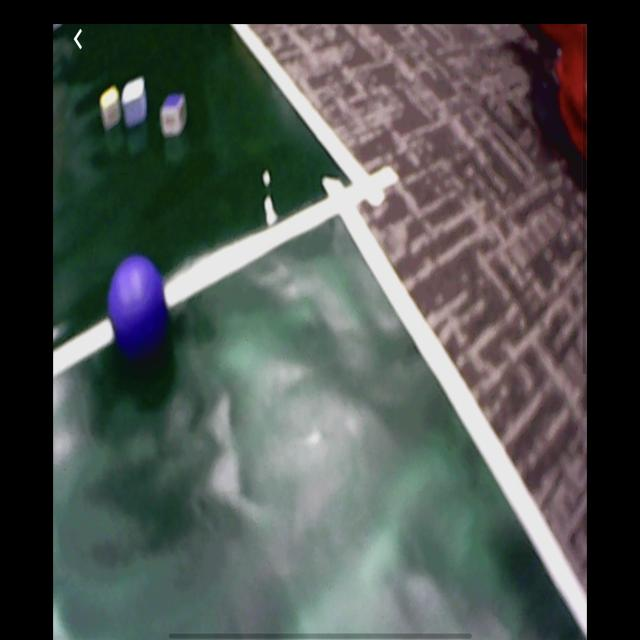ball: (111, 257, 168, 349)
